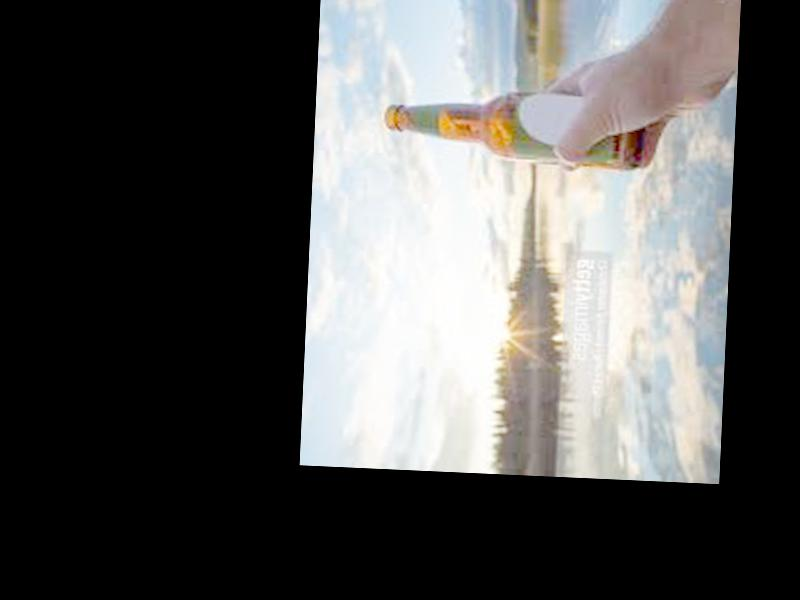Beer: (380, 84, 642, 175)
